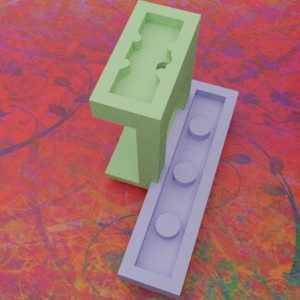lego: (117, 78, 238, 299), (89, 0, 201, 192)
